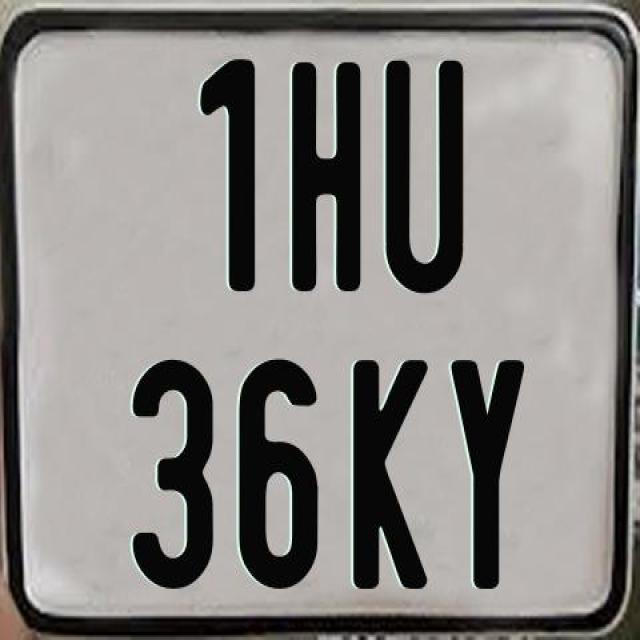1: (198, 58, 260, 292)
3: (131, 356, 217, 590)
6: (235, 358, 322, 592)
H: (289, 62, 359, 292)
K: (352, 358, 434, 589)
U: (383, 58, 468, 299)
Y: (450, 358, 528, 589)
